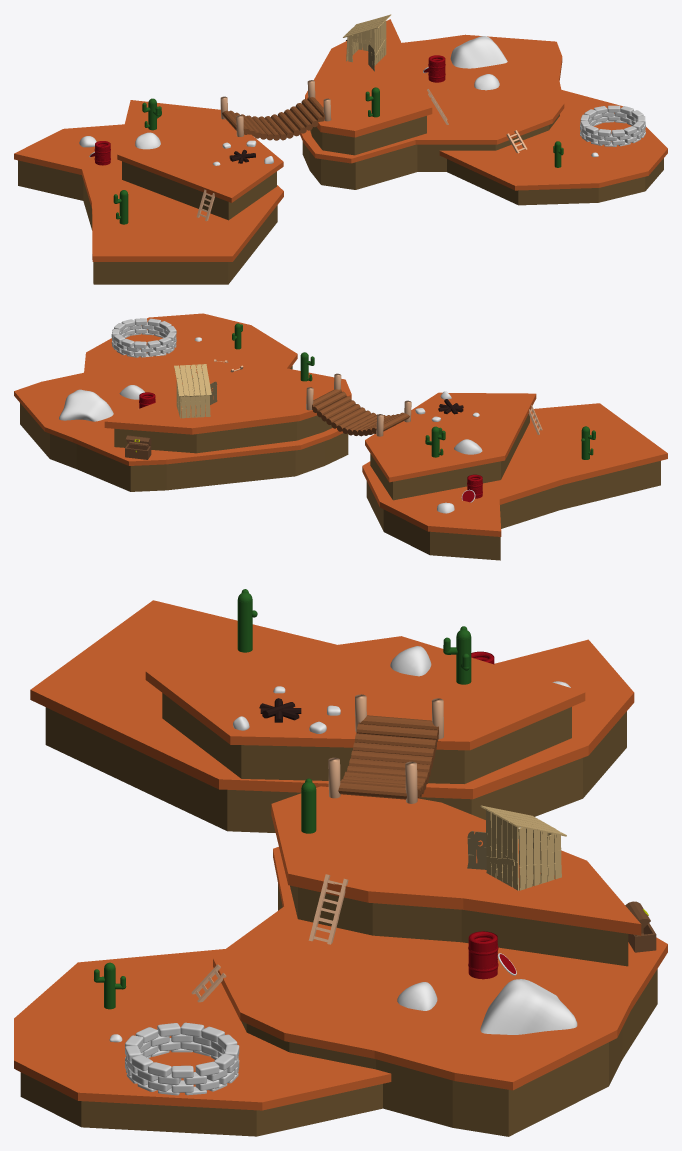
File: ile_moyenne_canyon_2.fbx
3 views of the same model, one above another, from view 1: azimuth 30°, elevation 25°; view 2: azimuth 150°, elevation 25°; view 3: azimuth 270°, elevation 25° (orthographic). The views are drawn at different scales.
Visible parts, largest first — view 1: Sable.002, Sable, Sable.001, Sable Etage.001, Sable Etage, Terre.002, Terre, Terre.001, Terre Etage.001, Pont, Puit, Terre Etage (+3 smaller); view 2: Sable.002, Sable, Sable Etage.001, Terre, Sable Etage, Terre.002, Sable.001, Terre Etage, Terre Etage.001, Pont, Puit, Planche cabane (+3 smaller); view 3: Sable, Sable.002, Sable.001, Sable Etage.001, Sable Etage, Terre.002, Terre, Terre Etage, Terre Etage.001, Terre.001, Puit, Pont (+8 smaller).
Part boxes in pixels (x1,y1,x2,y2): Sable.002: (14,124,283,261); Sable: (300,34,564,163); Sable.001: (439,90,667,190); Sable Etage.001: (117,100,283,202); Sable Etage: (305,19,432,137); Terre.002: (18,160,277,284); Terre: (302,114,559,189); Terre.001: (447,158,663,205); Terre Etage.001: (122,161,276,220); Pont: (222,97,324,140); Puit: (580,105,645,146); Terre Etage: (310,116,426,155); Sable.002: (362,403,667,536); Sable: (14,355,342,465); Sable Etage.001: (365,392,536,482); Terre: (20,403,348,491); Sable Etage: (104,363,351,434); Terre.002: (366,461,660,560); Sable.001: (84,313,297,372); Terre Etage: (114,415,332,453); Terre Etage.001: (370,414,529,500); Pont: (312,389,409,436); Puit: (111,318,176,357); Planche cabane: (174,364,211,418); Sable: (213,846,667,1090); Sable.002: (30,600,634,799); Sable.001: (14,949,391,1110); Sable Etage.001: (145,636,585,750); Sable Etage: (271,786,641,935); Terre.002: (45,707,626,832); Terre: (241,884,657,1136); Terre Etage: (290,885,628,966); Terre Etage.001: (162,693,571,783); Terre.001: (20,1072,382,1136); Puit: (125,1022,239,1095); Pont: (338,715,438,799).
Size of the model in its own units: 5085 by 863 by 2908.
